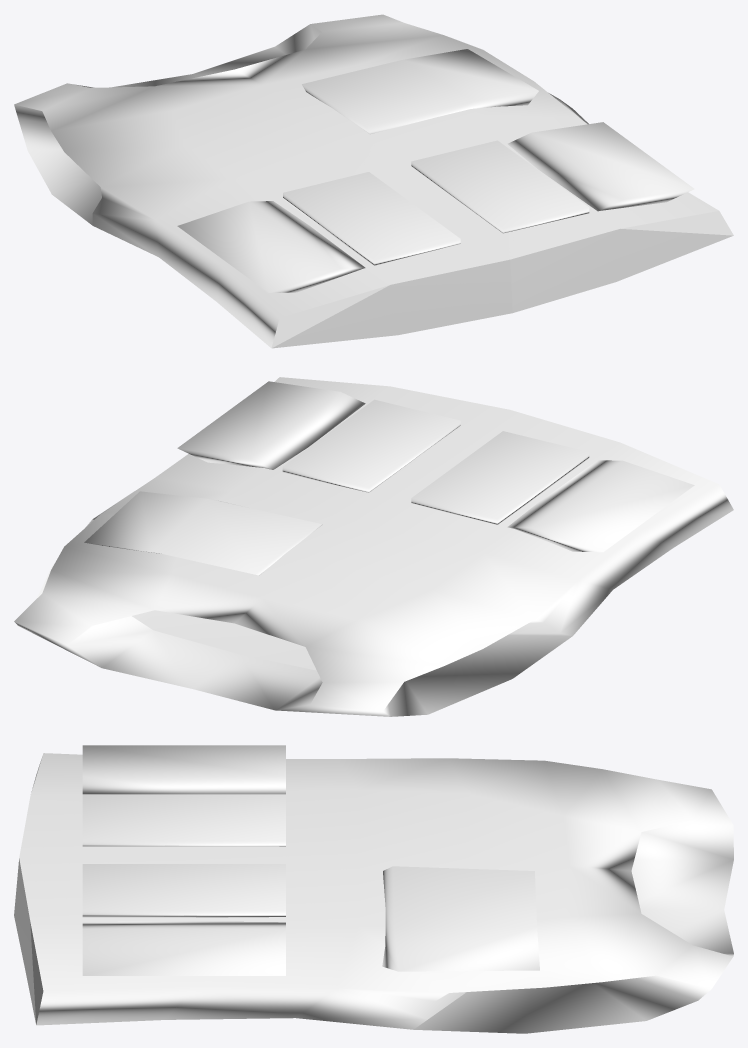
Rendered from TacticalBulletproofVest_Ground.fbx.
3 views of the same model, one above another, from view 1: azimuth 30°, elevation 25°; view 2: azimuth 150°, elevation 25°; view 3: azimuth 270°, elevation 25° (orthographic). The views are drawn at different scales.
Visible parts, largest first — view 1: Bob_BulletVest; view 2: Bob_BulletVest; view 3: Bob_BulletVest.
Part boxes in pixels (x1,y1,x2,y2): Bob_BulletVest: (14, 14, 733, 348); Bob_BulletVest: (14, 377, 733, 716); Bob_BulletVest: (14, 745, 733, 1033).
Size of the model in its own units: 0.2407 by 0.0295 by 0.2815.
